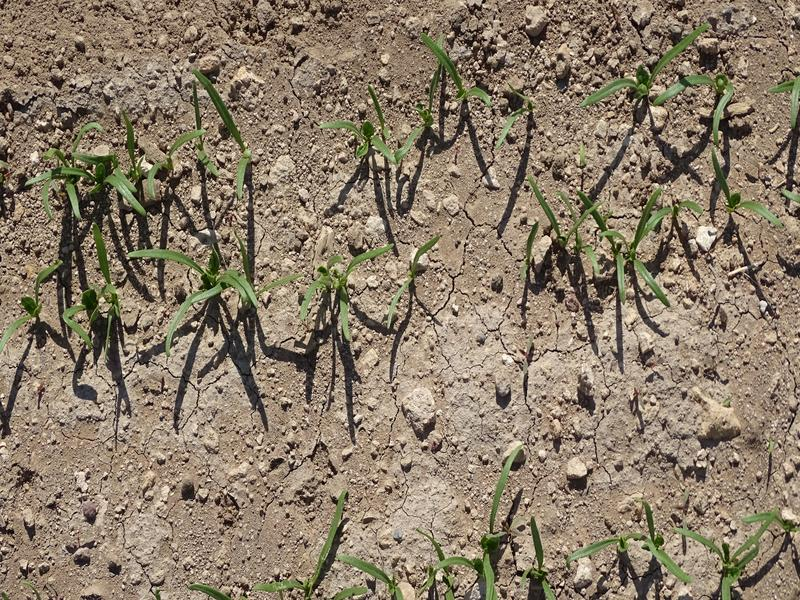Espinaca: (50, 242, 381, 352), (45, 87, 252, 217), (529, 166, 693, 318), (321, 37, 478, 182), (578, 501, 783, 589), (430, 450, 547, 600), (264, 479, 400, 600), (615, 36, 755, 144), (714, 154, 778, 226)
